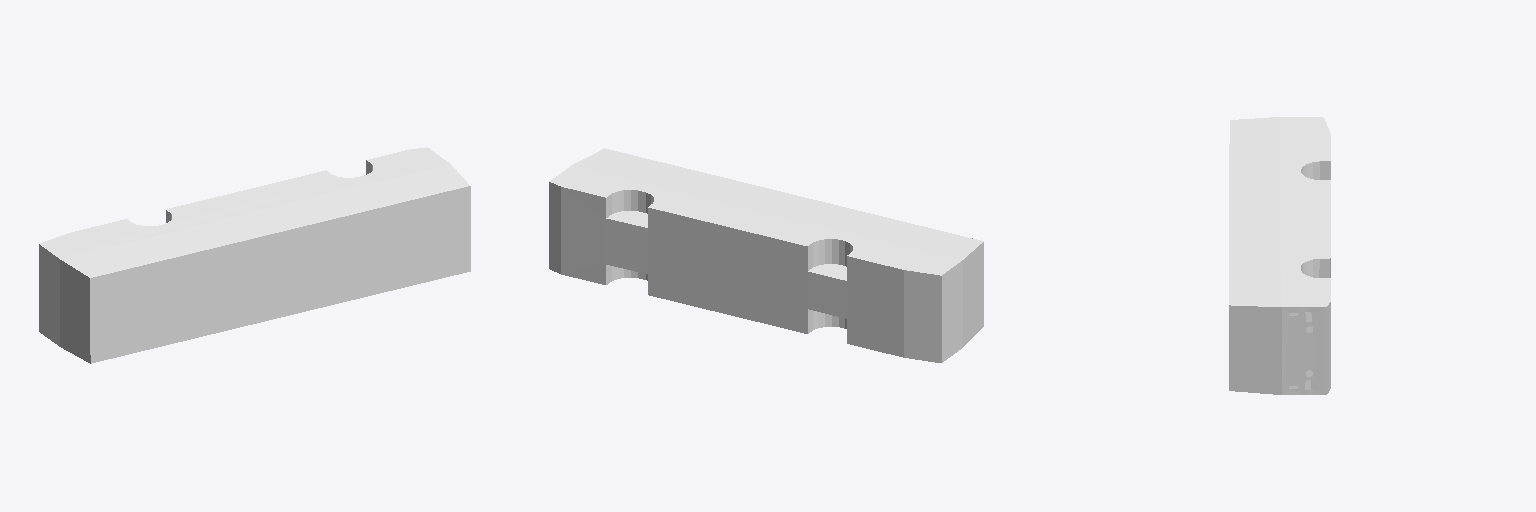
File: karoserie.obj
3 renders of one model, left to right at view 1: azimuth 30°, elevation 25°; view 2: azimuth 150°, elevation 25°; view 3: azimuth 270°, elevation 25°, orthographic.
Parts seen in each view (by area): view 1: Plane_Plane.003; view 2: Plane_Plane.003; view 3: Plane_Plane.003.
Boxes of the visible parts, <box> form: Plane_Plane.003: <box>39,147,470,363</box>; Plane_Plane.003: <box>549,148,983,362</box>; Plane_Plane.003: <box>1229,117,1330,394</box>.
Size of the model in its own units: 11.56 by 2.48 by 2.64.